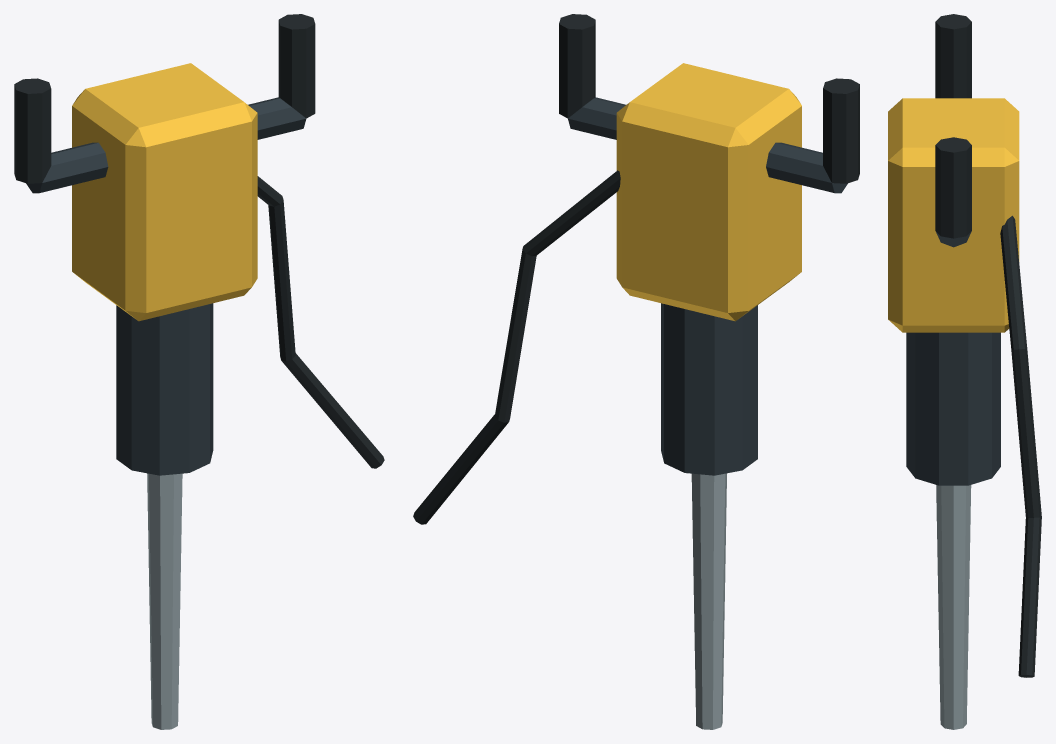
File: Jackhammer.glb
3 renders of one model, left to right at view 1: azimuth 30°, elevation 25°; view 2: azimuth 150°, elevation 25°; view 3: azimuth 270°, elevation 25°, orthographic. The views are drawn at different scales.
Visible parts, largest first — view 1: Jackhammer; view 2: Jackhammer; view 3: Jackhammer.
Boxes of the visible parts, bbox=[...] form: Jackhammer: bbox=[14, 14, 384, 729]; Jackhammer: bbox=[413, 14, 859, 729]; Jackhammer: bbox=[888, 14, 1041, 729].
Size of the model in its own units: 0.6139 by 0.97 by 0.211.
